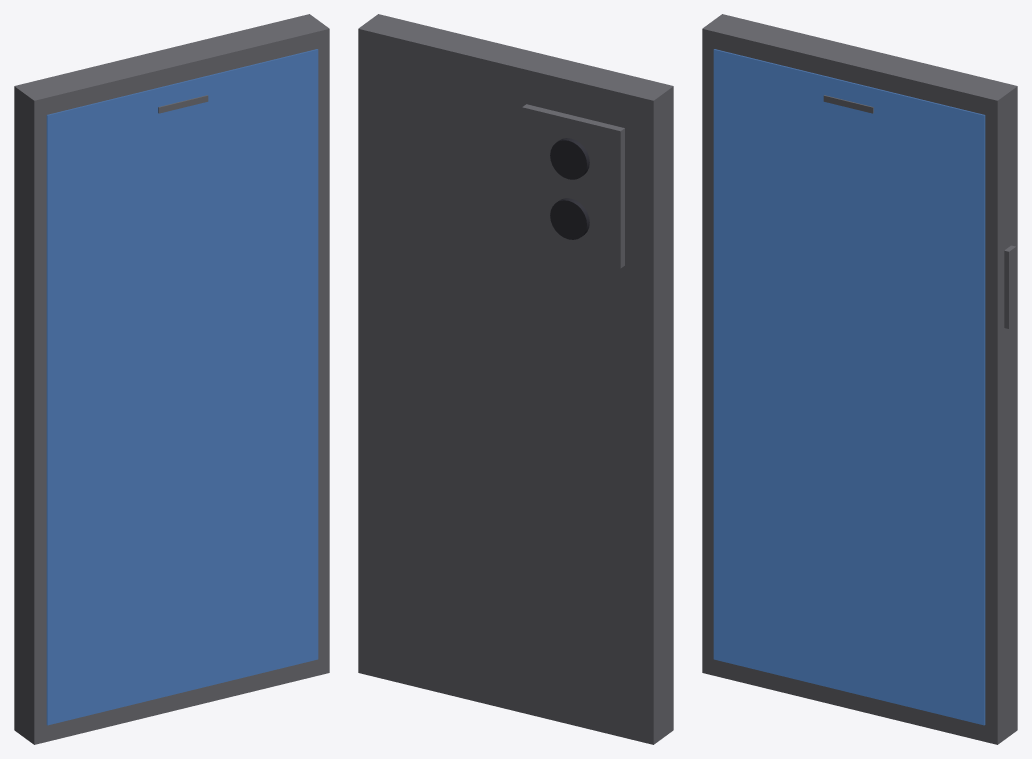
Rendered from mobile_phone.glb.
The picture shows the model from 3 angles, left to right: view 1: azimuth 30°, elevation 25°; view 2: azimuth 150°, elevation 25°; view 3: azimuth 330°, elevation 25°; orthographic projection.
Visible parts, largest first — view 1: mobile_phone; view 2: mobile_phone; view 3: mobile_phone.
Part boxes in pixels (x1,y1,x2,y2): mobile_phone: (14, 14, 329, 744); mobile_phone: (358, 14, 673, 744); mobile_phone: (702, 14, 1017, 744).
Size of the model in its own units: 0.0732 by 0.15 by 0.0122.
